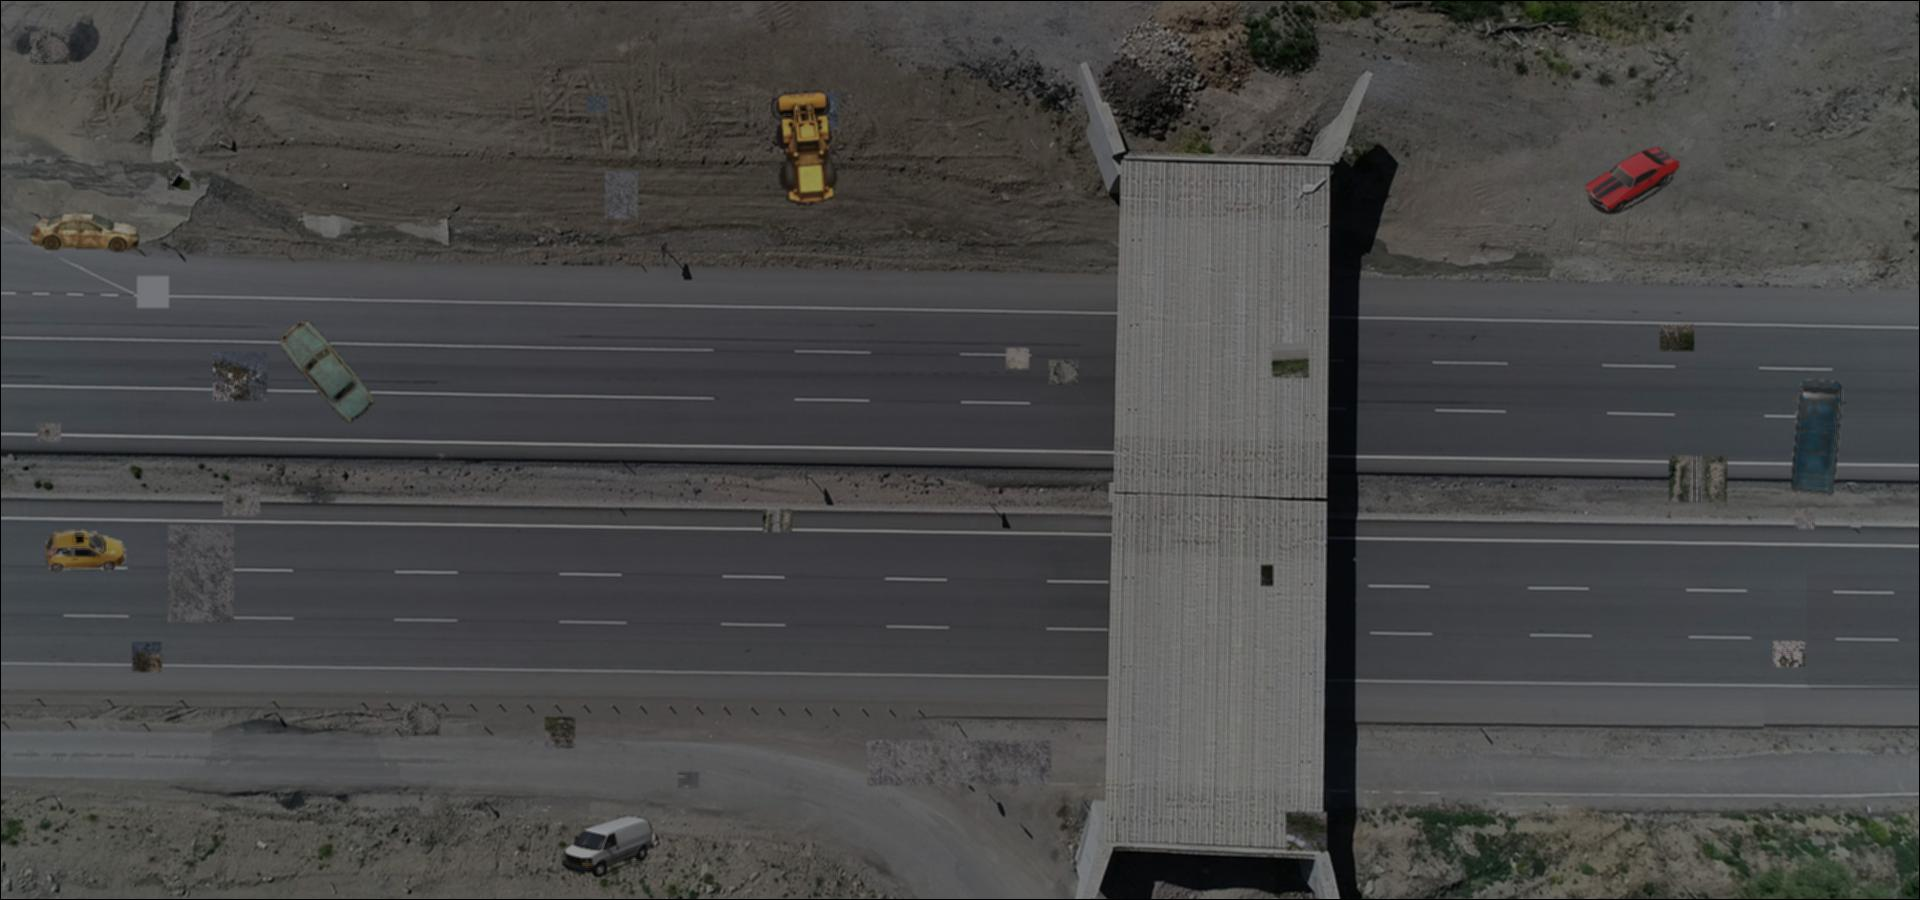arac: (277, 316, 378, 422), (768, 88, 853, 211), (1788, 378, 1847, 496), (1586, 147, 1679, 214), (562, 816, 654, 880), (28, 212, 143, 252), (47, 529, 126, 573)
